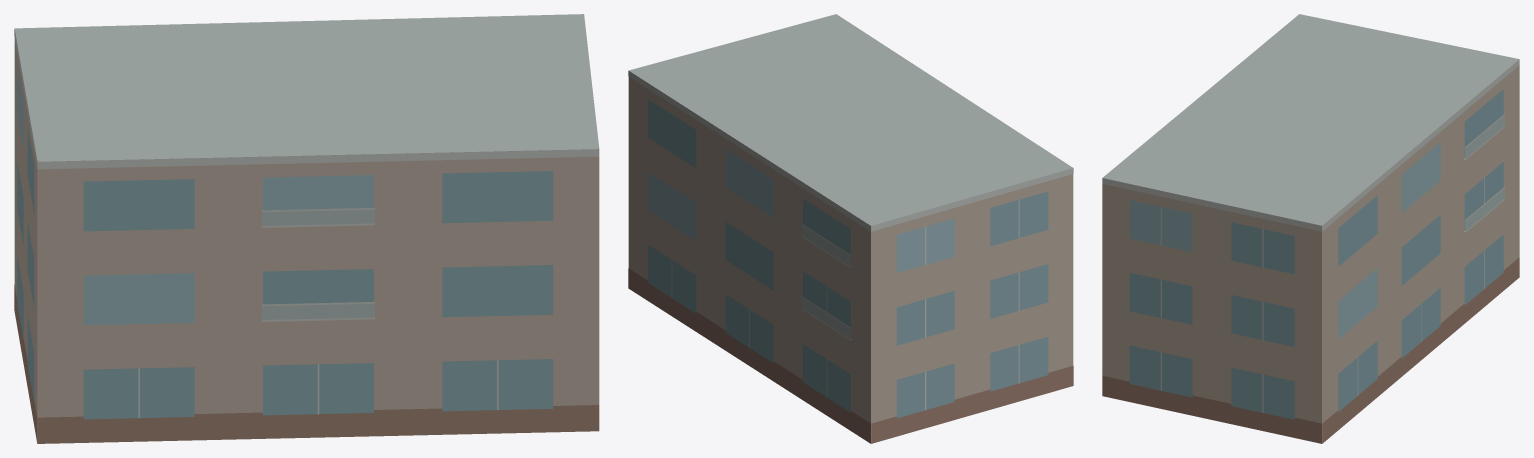
Rendered from survey-upis-32992531.glb.
3 renders of one model, left to right at view 1: azimuth 30°, elevation 25°; view 2: azimuth 150°, elevation 25°; view 3: azimuth 270°, elevation 25°, orthographic. The views are drawn at different scales.
Parts seen in each view (by area): view 1: survey-upis-32992531.tmp; view 2: survey-upis-32992531.tmp; view 3: survey-upis-32992531.tmp.
Boxes of the visible parts, box(x1,y1,x2,y2) form: survey-upis-32992531.tmp: box(14, 14, 599, 443); survey-upis-32992531.tmp: box(628, 14, 1073, 443); survey-upis-32992531.tmp: box(1102, 14, 1519, 443).
Size of the model in its own units: 18.96 by 9.1 by 15.79.
